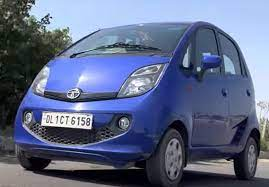Nano: (13, 21, 260, 183)
